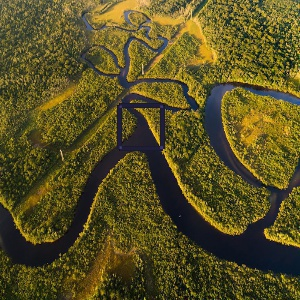square: (116, 101, 165, 152)
